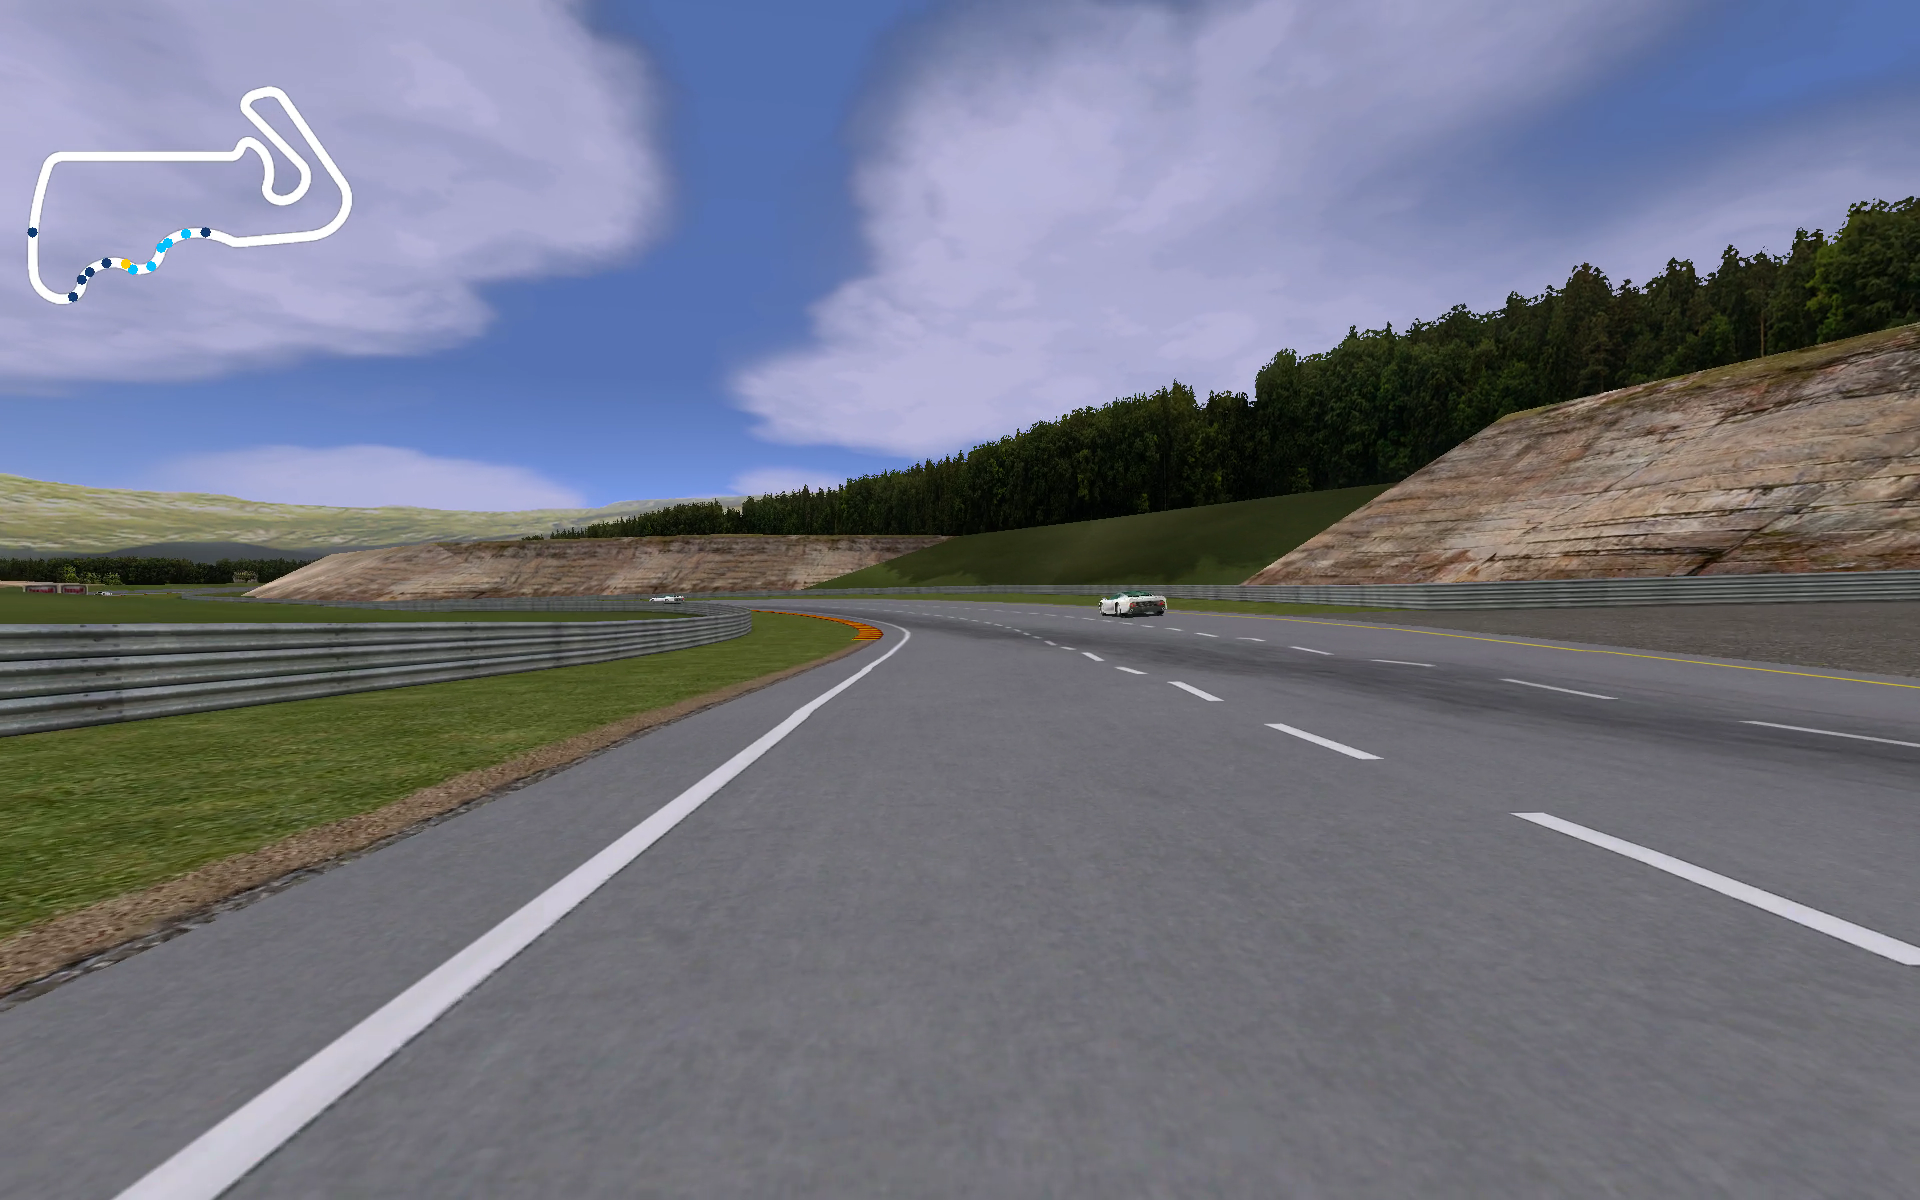car: (1098, 589, 1174, 622)
